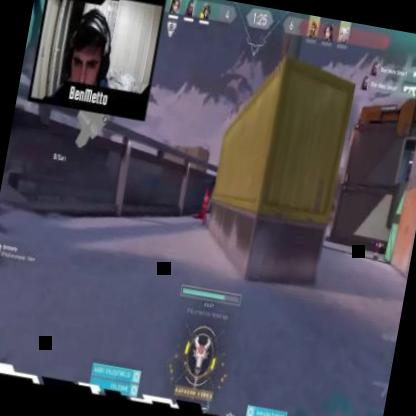enemy: (198, 186, 212, 226)
enemy_head: (204, 187, 209, 194)
